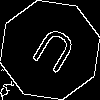U: (25, 25, 79, 83)
